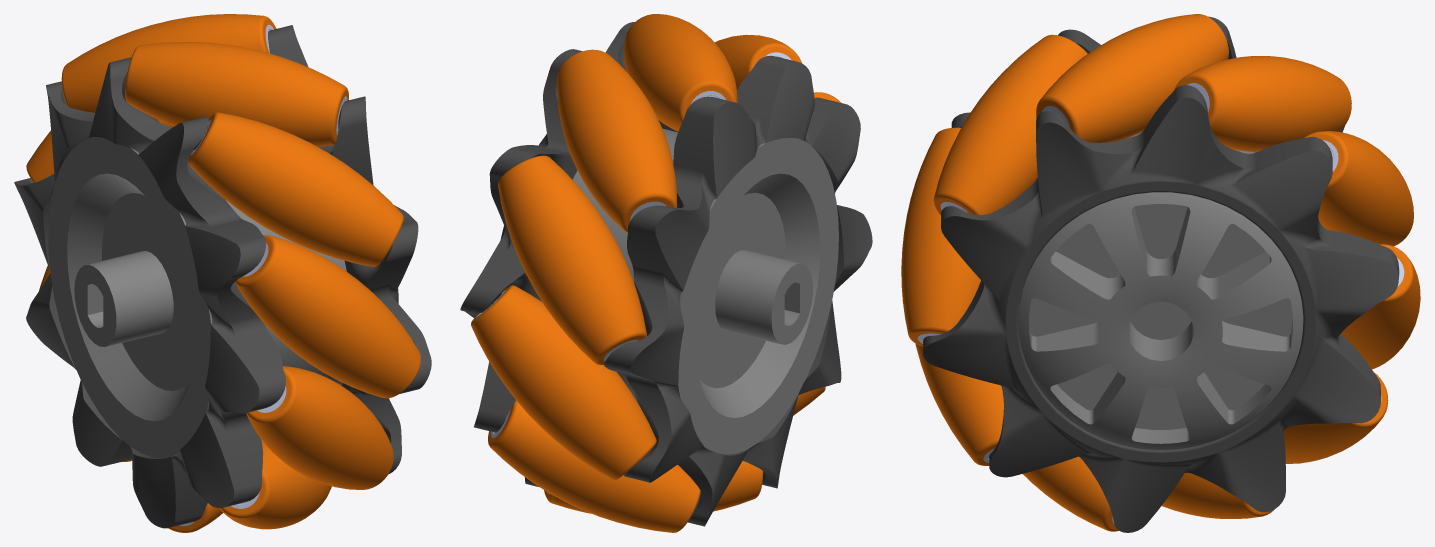
File: Mecanum Wheel Left.obj
3 views of the same model, side by side, from view 1: azimuth 30°, elevation 25°; view 2: azimuth 150°, elevation 25°; view 3: azimuth 270°, elevation 25° (orthographic).
Visible parts, largest first — view 1: Mecanum_Wheel_Left; view 2: Mecanum_Wheel_Left; view 3: Mecanum_Wheel_Left.
Part boxes in pixels (left/top/right/bottom): Mecanum_Wheel_Left: left=14, top=14, right=431, bottom=532; Mecanum_Wheel_Left: left=460, top=14, right=872, bottom=532; Mecanum_Wheel_Left: left=901, top=14, right=1420, bottom=532.
Bounding box in the file's own units: 33.61 × 61.31 × 61.19.
